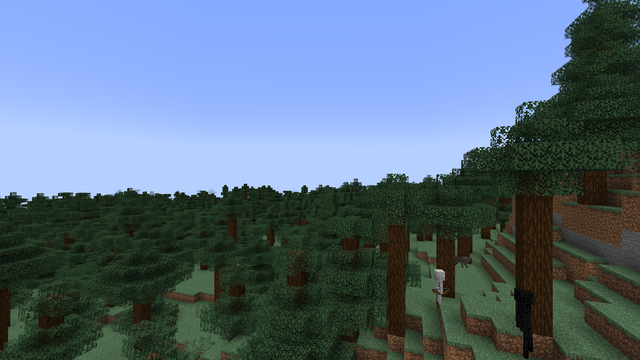araignees: (455, 253, 469, 267)
endermens: (513, 285, 535, 359)
squelettes: (433, 268, 444, 305)
